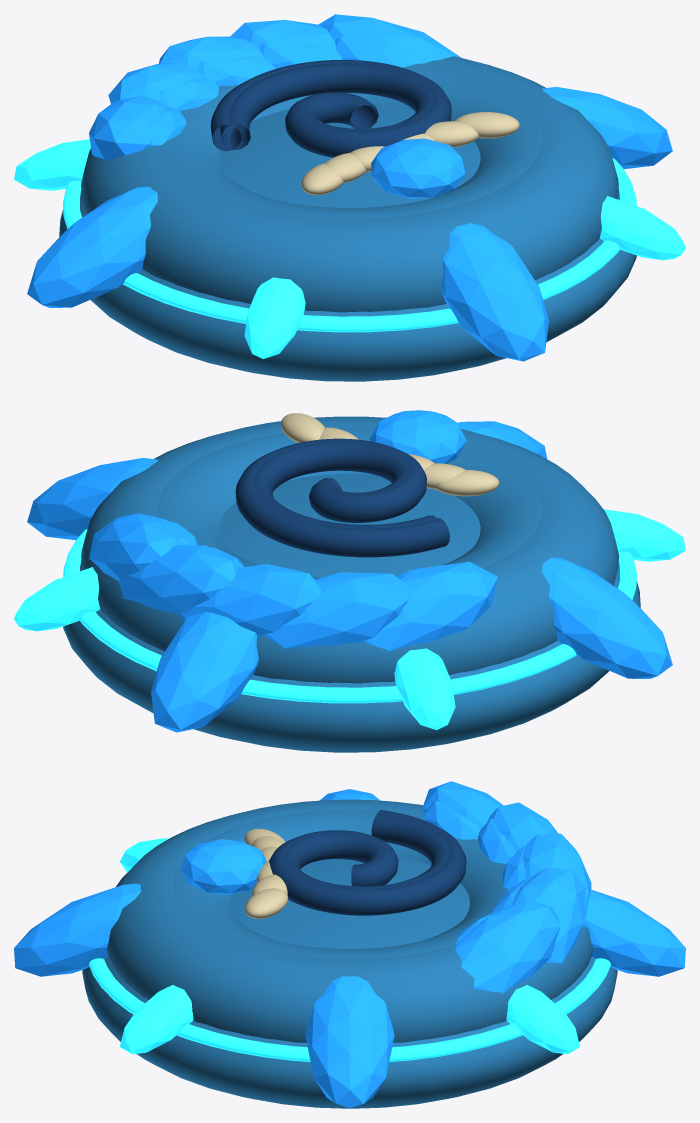
Rendered from crystalfin-seahorse-orbit-top-r2.glb.
3 renders of one model, top to bottom at view 1: azimuth 30°, elevation 25°; view 2: azimuth 150°, elevation 25°; view 3: azimuth 270°, elevation 25°, orthographic. The views are drawn at different scales.
Parts seen in each view (by area): view 1: CrystalfinResonance_PearlCyanUpperShell, CrystalfinResonance_AquaticClayLowerShell, CrystalfinBase_PearlCyanUpperShell, CrystalfinResonance_CardinalCrystal_04, CrystalfinResonance_CardinalCrystal_03, CrystalfinBase_SpiralTailRidge, CrystalfinResonance_ResonanceHalo, CrystalfinResonance_SpiralTailRidge, CrystalfinResonance_CardinalCrystal_01, CrystalfinBase_SapphireHeartCoreDiamond, CrystalfinResonance_ResonanceShard_03, CrystalfinResonance_ResonanceShard_04 (+15 smaller); view 2: CrystalfinResonance_AquaticClayLowerShell, CrystalfinResonance_PearlCyanUpperShell, CrystalfinBase_PearlCyanUpperShell, CrystalfinResonance_SpiralTailRidge, CrystalfinResonance_CardinalCrystal_03, CrystalfinResonance_CardinalCrystal_02, CrystalfinResonance_ResonanceHalo, CrystalfinResonance_CrownCrystal_04, CrystalfinResonance_CrownCrystal_05, CrystalfinBase_SpiralTailRidge, CrystalfinResonance_CrownCrystal_03, CrystalfinResonance_CrownCrystal_02 (+10 smaller); view 3: CrystalfinResonance_PearlCyanUpperShell, CrystalfinResonance_AquaticClayLowerShell, CrystalfinBase_PearlCyanUpperShell, CrystalfinResonance_CardinalCrystal_01, CrystalfinResonance_SpiralTailRidge, CrystalfinResonance_CrownCrystal_01, CrystalfinResonance_CardinalCrystal_04, CrystalfinResonance_ResonanceHalo, CrystalfinResonance_CardinalCrystal_02, CrystalfinBase_SpiralTailRidge, CrystalfinBase_SapphireHeartCoreDiamond, CrystalfinResonance_CrownCrystal_02 (+10 smaller).
Boxes of the visible parts, left/top/right/bottom form: CrystalfinResonance_PearlCyanUpperShell: left=81, top=56, right=618, bottom=312; CrystalfinResonance_AquaticClayLowerShell: left=59, top=103, right=636, bottom=381; CrystalfinBase_PearlCyanUpperShell: left=158, top=63, right=542, bottom=219; CrystalfinResonance_CardinalCrystal_04: left=441, top=223, right=548, bottom=361; CrystalfinResonance_CardinalCrystal_03: left=27, top=186, right=157, bottom=307; CrystalfinBase_SpiralTailRidge: left=220, top=63, right=433, bottom=149; CrystalfinResonance_ResonanceHalo: left=63, top=158, right=636, bottom=332; CrystalfinResonance_SpiralTailRidge: left=210, top=60, right=451, bottom=157; CrystalfinResonance_CardinalCrystal_01: left=542, top=87, right=672, bottom=169; CrystalfinBase_SapphireHeartCoreDiamond: left=371, top=138, right=465, bottom=198; CrystalfinResonance_ResonanceShard_03: left=244, top=277, right=305, bottom=358; CrystalfinResonance_ResonanceShard_04: left=599, top=196, right=685, bottom=260; CrystalfinResonance_AquaticClayLowerShell: left=63, top=474, right=640, bottom=752; CrystalfinResonance_PearlCyanUpperShell: left=81, top=416, right=618, bottom=683; CrystalfinBase_PearlCyanUpperShell: left=157, top=428, right=542, bottom=579; CrystalfinResonance_SpiralTailRidge: left=235, top=438, right=449, bottom=557; CrystalfinResonance_CardinalCrystal_03: left=542, top=557, right=672, bottom=678; CrystalfinResonance_CardinalCrystal_02: left=151, top=611, right=258, bottom=732; CrystalfinResonance_ResonanceHalo: left=63, top=529, right=636, bottom=703; CrystalfinResonance_CrownCrystal_04: left=263, top=572, right=413, bottom=649; CrystalfinResonance_CrownCrystal_05: left=363, top=561, right=497, bottom=651; CrystalfinBase_SpiralTailRidge: left=254, top=442, right=437, bottom=528; CrystalfinResonance_CrownCrystal_03: left=178, top=564, right=320, bottom=634; CrystalfinResonance_CrownCrystal_02: left=118, top=545, right=239, bottom=613; CrystalfinResonance_PearlCyanUpperShell: left=106, top=799, right=593, bottom=1042; CrystalfinResonance_AquaticClayLowerShell: left=82, top=856, right=617, bottom=1108; CrystalfinBase_PearlCyanUpperShell: left=173, top=810, right=508, bottom=959; CrystalfinResonance_CardinalCrystal_01: left=305, top=976, right=394, bottom=1107; CrystalfinResonance_SpiralTailRidge: left=269, top=810, right=466, bottom=915; CrystalfinResonance_CrownCrystal_01: left=455, top=899, right=560, bottom=994; CrystalfinResonance_CardinalCrystal_04: left=14, top=883, right=140, bottom=976; CrystalfinResonance_ResonanceHalo: left=89, top=958, right=610, bottom=1061; CrystalfinResonance_CardinalCrystal_02: left=586, top=889, right=685, bottom=976; CrystalfinBase_SpiralTailRidge: left=284, top=813, right=449, bottom=888; CrystalfinBase_SapphireHeartCoreDiamond: left=180, top=839, right=266, bottom=894; CrystalfinResonance_CrownCrystal_02: left=511, top=867, right=585, bottom=963.
Size of the model in its own units: 2.85 by 1.06 by 2.85.
